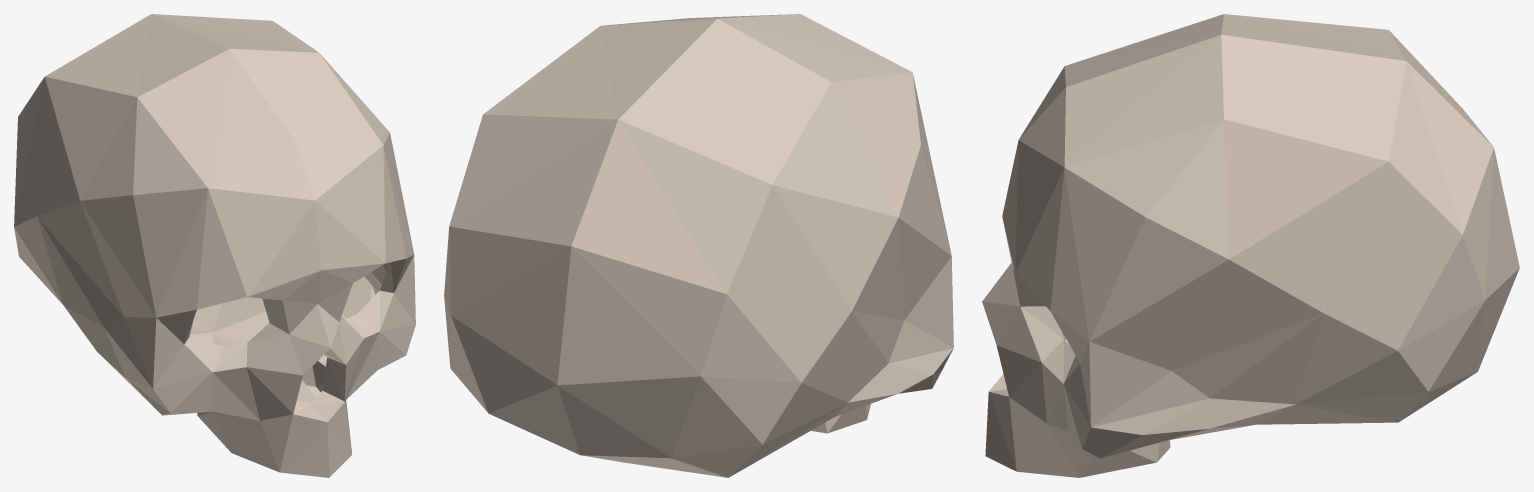
The model's file is BPW_Skull.fbx.
The picture shows the model from 3 angles, left to right: view 1: azimuth 30°, elevation 25°; view 2: azimuth 150°, elevation 25°; view 3: azimuth 270°, elevation 25°; orthographic projection. The views are drawn at different scales.
Parts seen in each view (by area): view 1: SketchUp; view 2: SketchUp; view 3: SketchUp.
Boxes of the visible parts, left/top/right/bottom form: SketchUp: left=14, top=14, right=415, bottom=477; SketchUp: left=444, top=14, right=953, bottom=477; SketchUp: left=982, top=14, right=1519, bottom=477.
Bounding box in the file's own units: 599 × 683 × 789.
